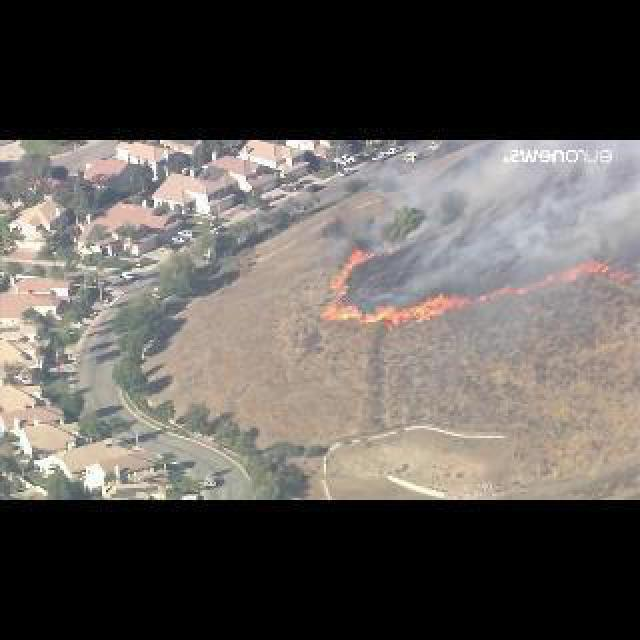Fire: (478, 262, 630, 304), (322, 294, 474, 326), (330, 244, 368, 292)
